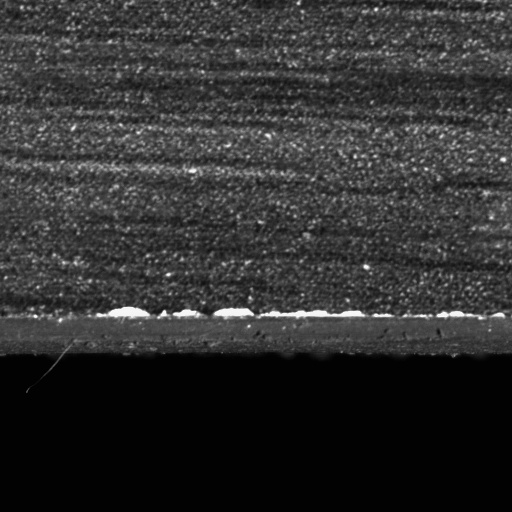huashang: (260, 309, 366, 317), (99, 303, 151, 318), (215, 306, 254, 320), (170, 308, 204, 317)
